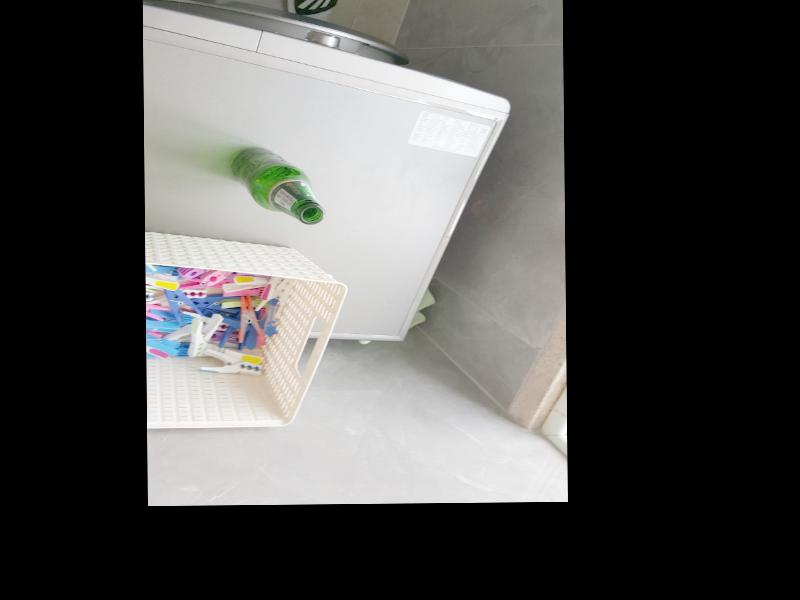Beer: (231, 145, 325, 224)
